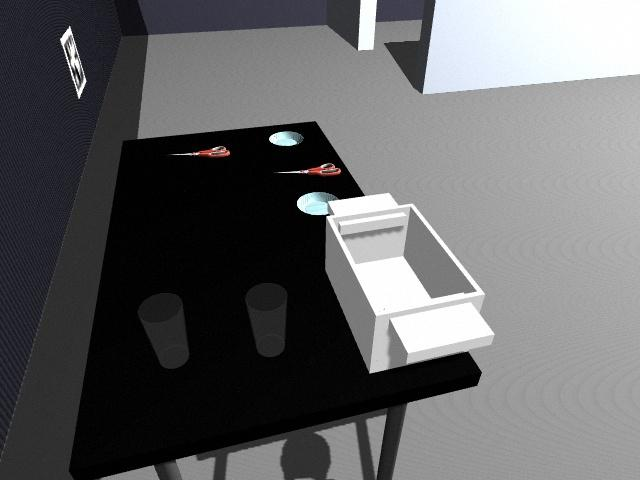cup: (139, 295, 188, 367), (244, 282, 287, 355)
plate: (297, 192, 337, 216), (268, 130, 304, 147)
scissors: (274, 162, 341, 176), (171, 146, 231, 158)
